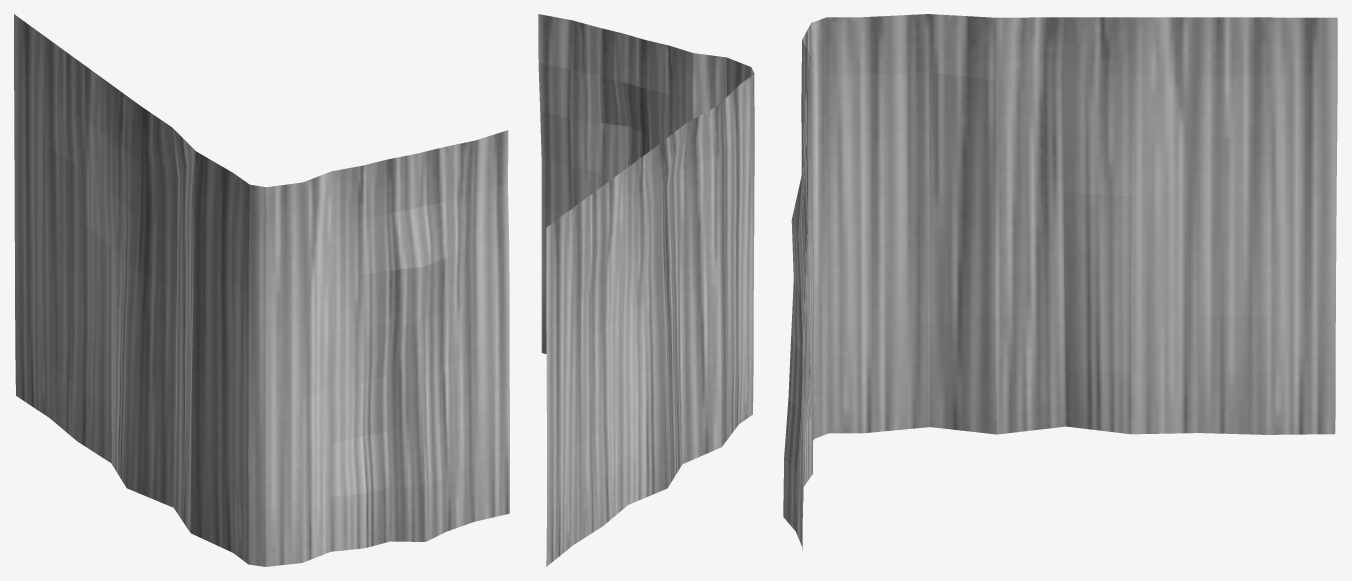
File: ShowerCurtain.fbx
3 renders of one model, left to right at view 1: azimuth 30°, elevation 25°; view 2: azimuth 150°, elevation 25°; view 3: azimuth 270°, elevation 25°, orthographic. The views are drawn at different scales.
Visible parts, largest first — view 1: ShowerCurtain; view 2: ShowerCurtain; view 3: ShowerCurtain.
Part boxes in pixels (left/top/right/bottom): ShowerCurtain: left=14, top=14, right=509, bottom=566; ShowerCurtain: left=538, top=14, right=754, bottom=566; ShowerCurtain: left=783, top=14, right=1337, bottom=550.
Size of the model in its own units: 1.65 by 2.29 by 2.76.
